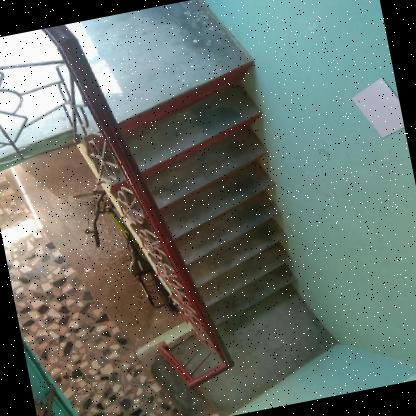stair: (88, 40, 337, 378)
